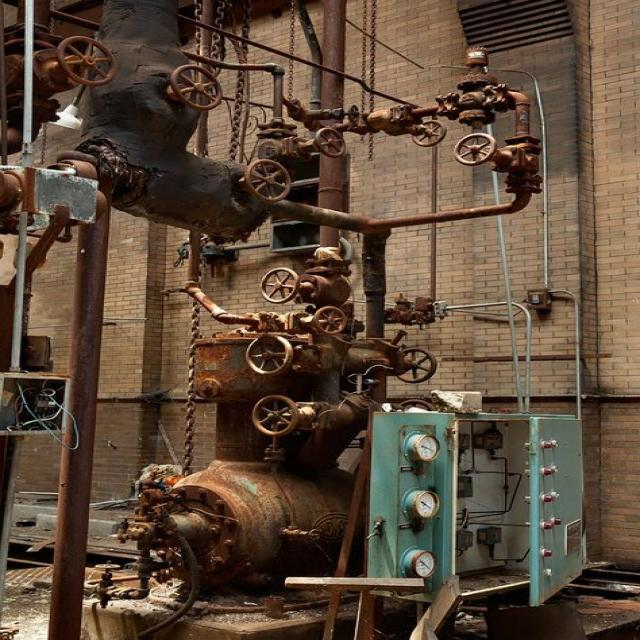Wheel Handle Valve Threaded: (452, 130, 540, 194), (257, 119, 342, 176), (346, 104, 443, 148), (266, 260, 348, 312)
